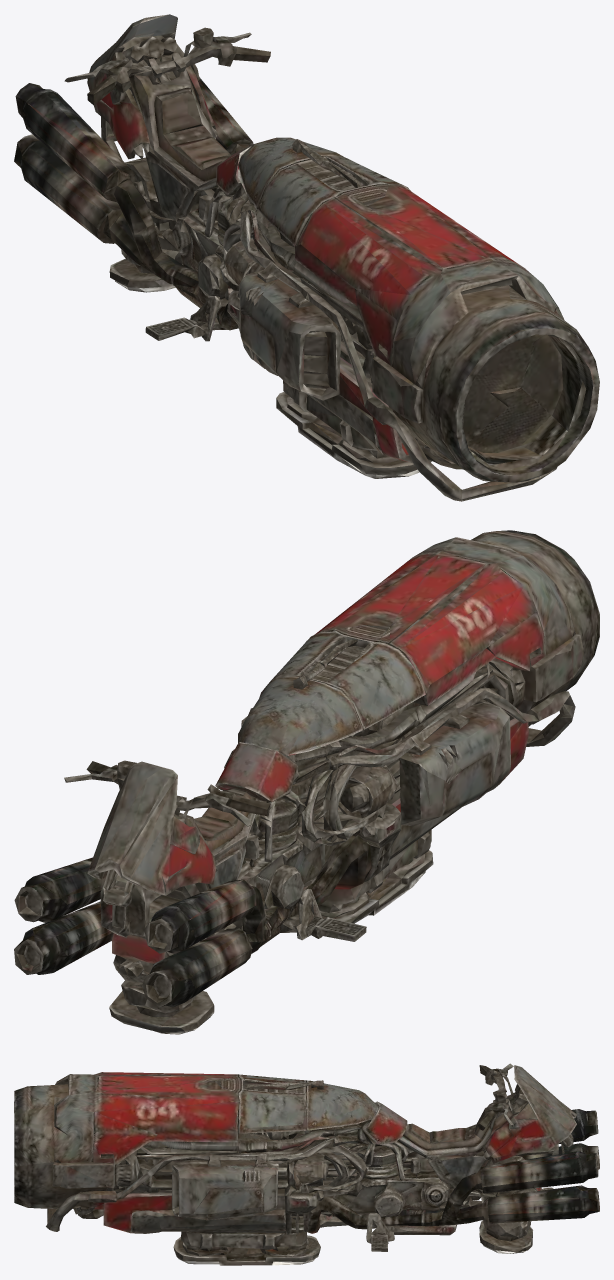
Rendered from swoop.glb.
The picture shows the model from 3 angles, top to bottom: view 1: azimuth 30°, elevation 25°; view 2: azimuth 150°, elevation 25°; view 3: azimuth 270°, elevation 25°; orthographic projection. The views are drawn at different scales.
Parts seen in each view (by area): view 1: swoop-centred; view 2: swoop-centred; view 3: swoop-centred.
Part boxes in pixels (x1,y1,x2,y2): swoop-centred: (14,14,599,501); swoop-centred: (14,530,599,1034); swoop-centred: (14,1063,599,1265).
Size of the model in its own units: 1.15 by 1.4 by 4.
Materials: 1 (1 with a texture image).
